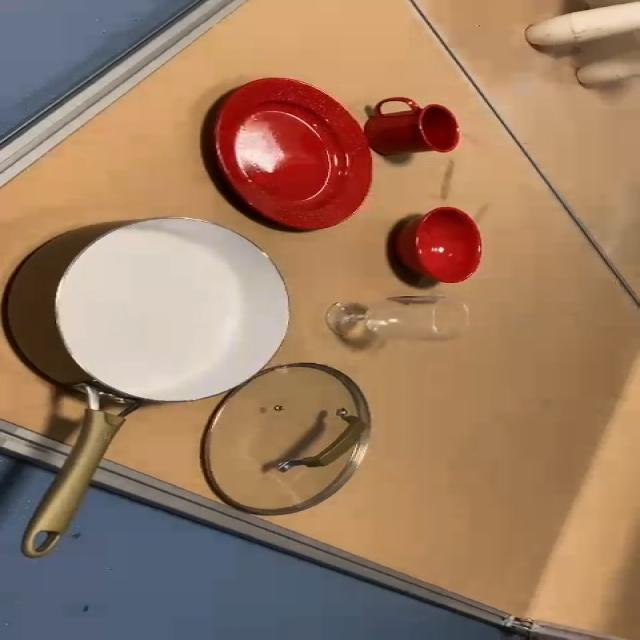Bowl: (398, 206, 488, 283)
Glass: (325, 292, 470, 350)
Plate: (208, 79, 380, 234)
cup: (362, 96, 466, 162)
pot: (8, 217, 295, 553)
